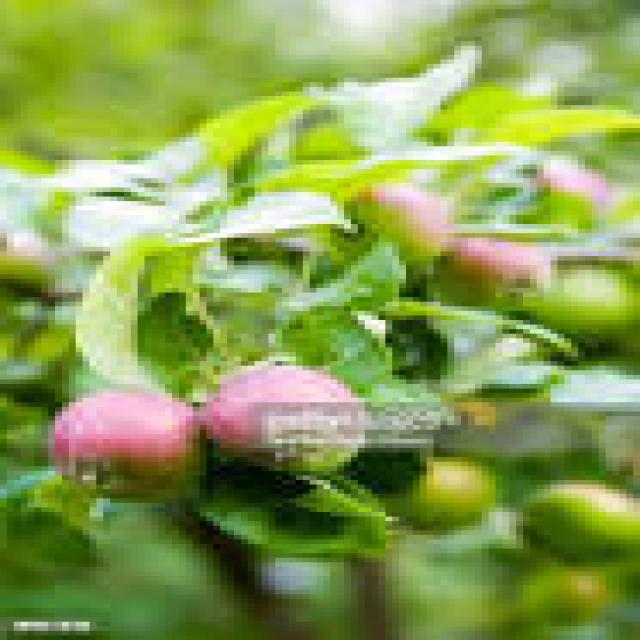apple: (200, 366, 365, 466), (55, 389, 193, 494), (523, 480, 633, 558), (530, 265, 633, 338), (358, 183, 447, 261), (399, 457, 489, 530), (447, 238, 544, 297), (523, 567, 606, 622)
